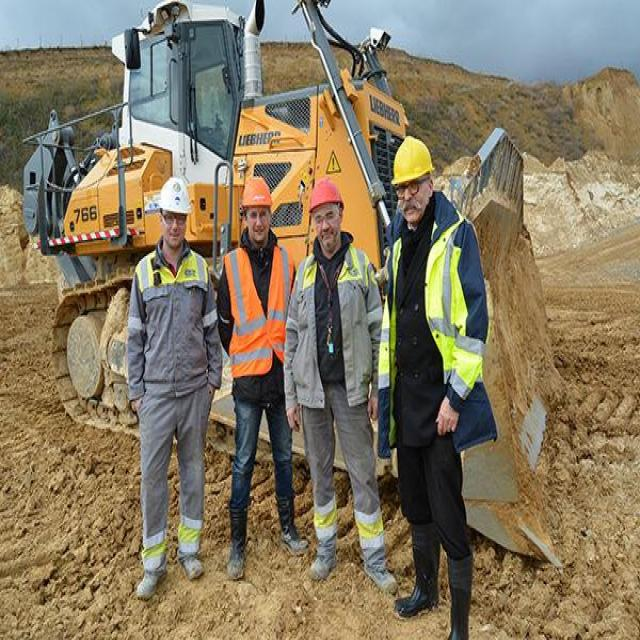Bulldozer: (9, 0, 609, 570)
